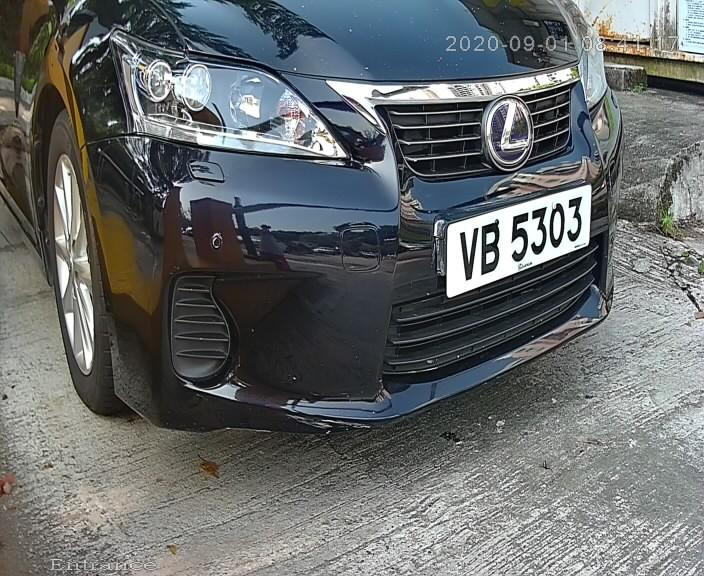Car: (23, 8, 673, 453)
License Plate: (437, 181, 598, 296)
